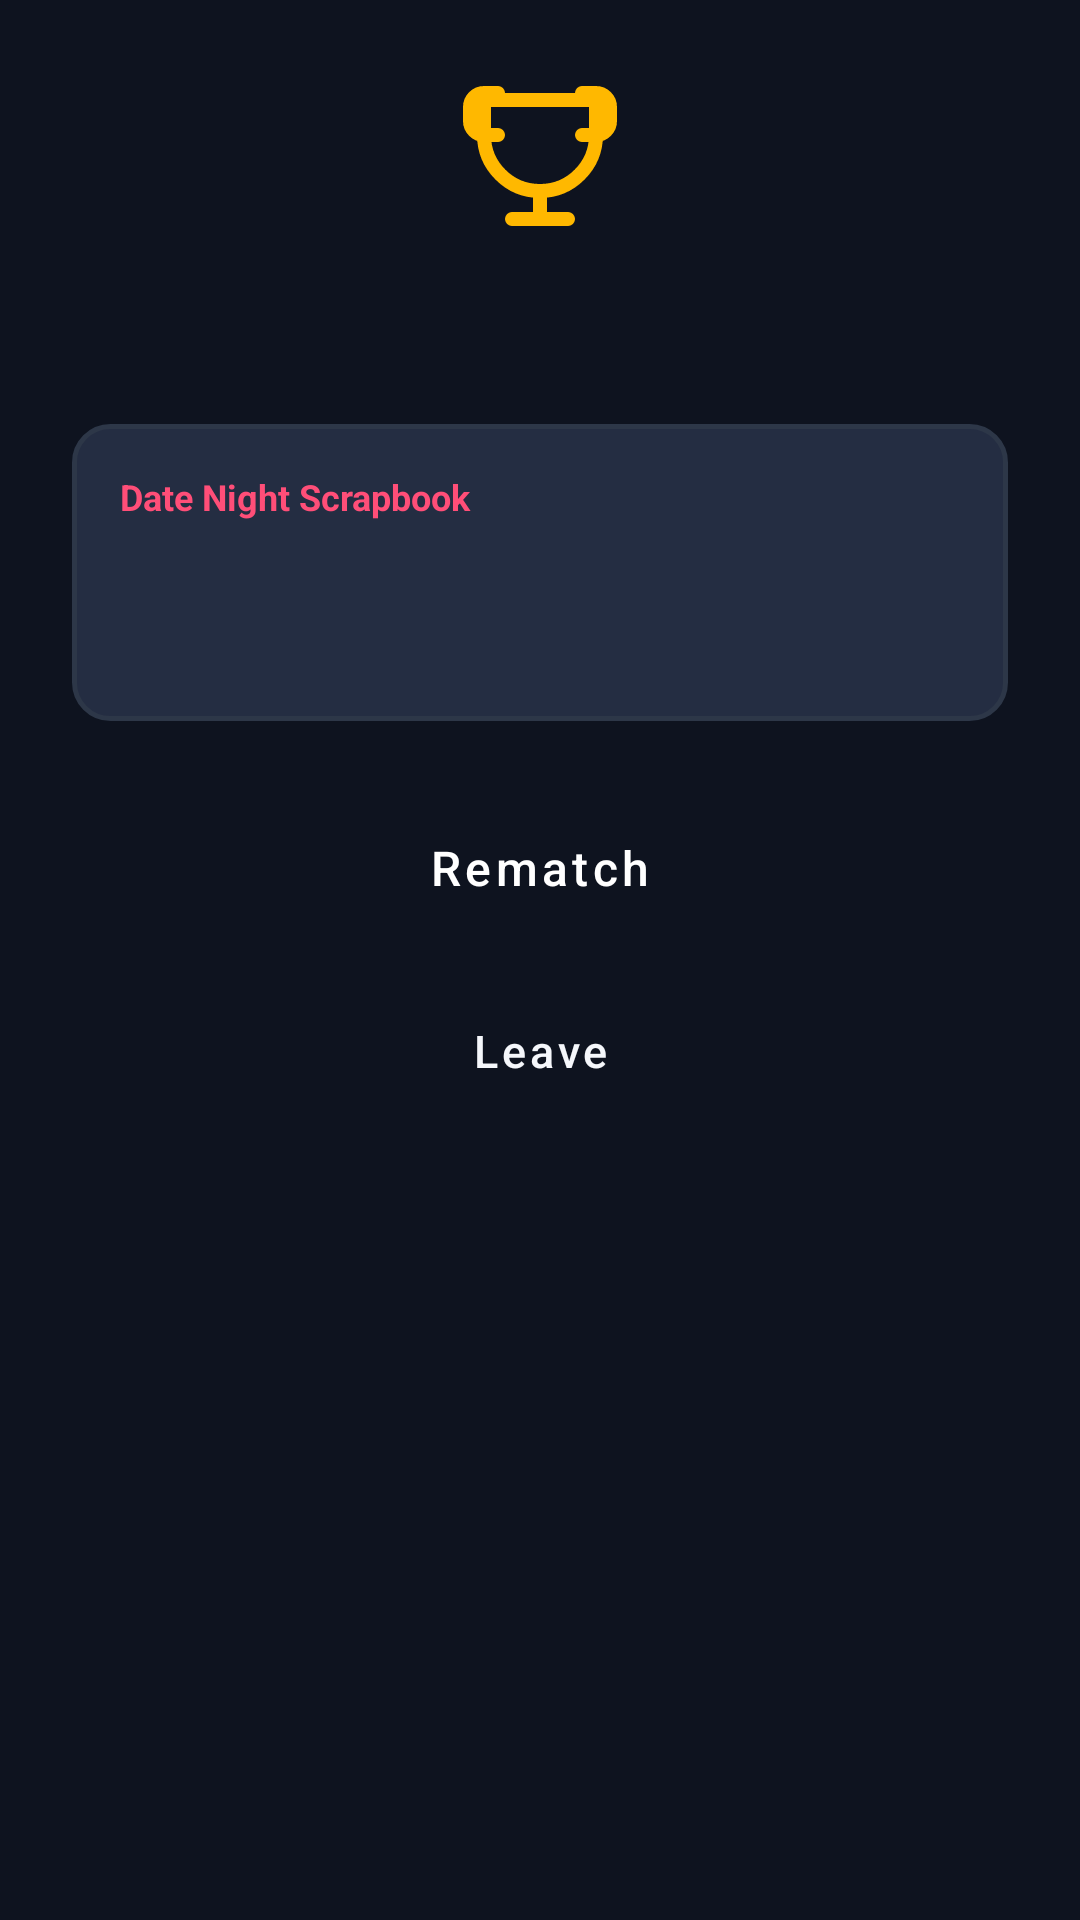

Where icons sit on this 1080 x 1920 app screen, as box=[x1, y1, x2, y2]:
trophy: box=[463, 86, 617, 226]
